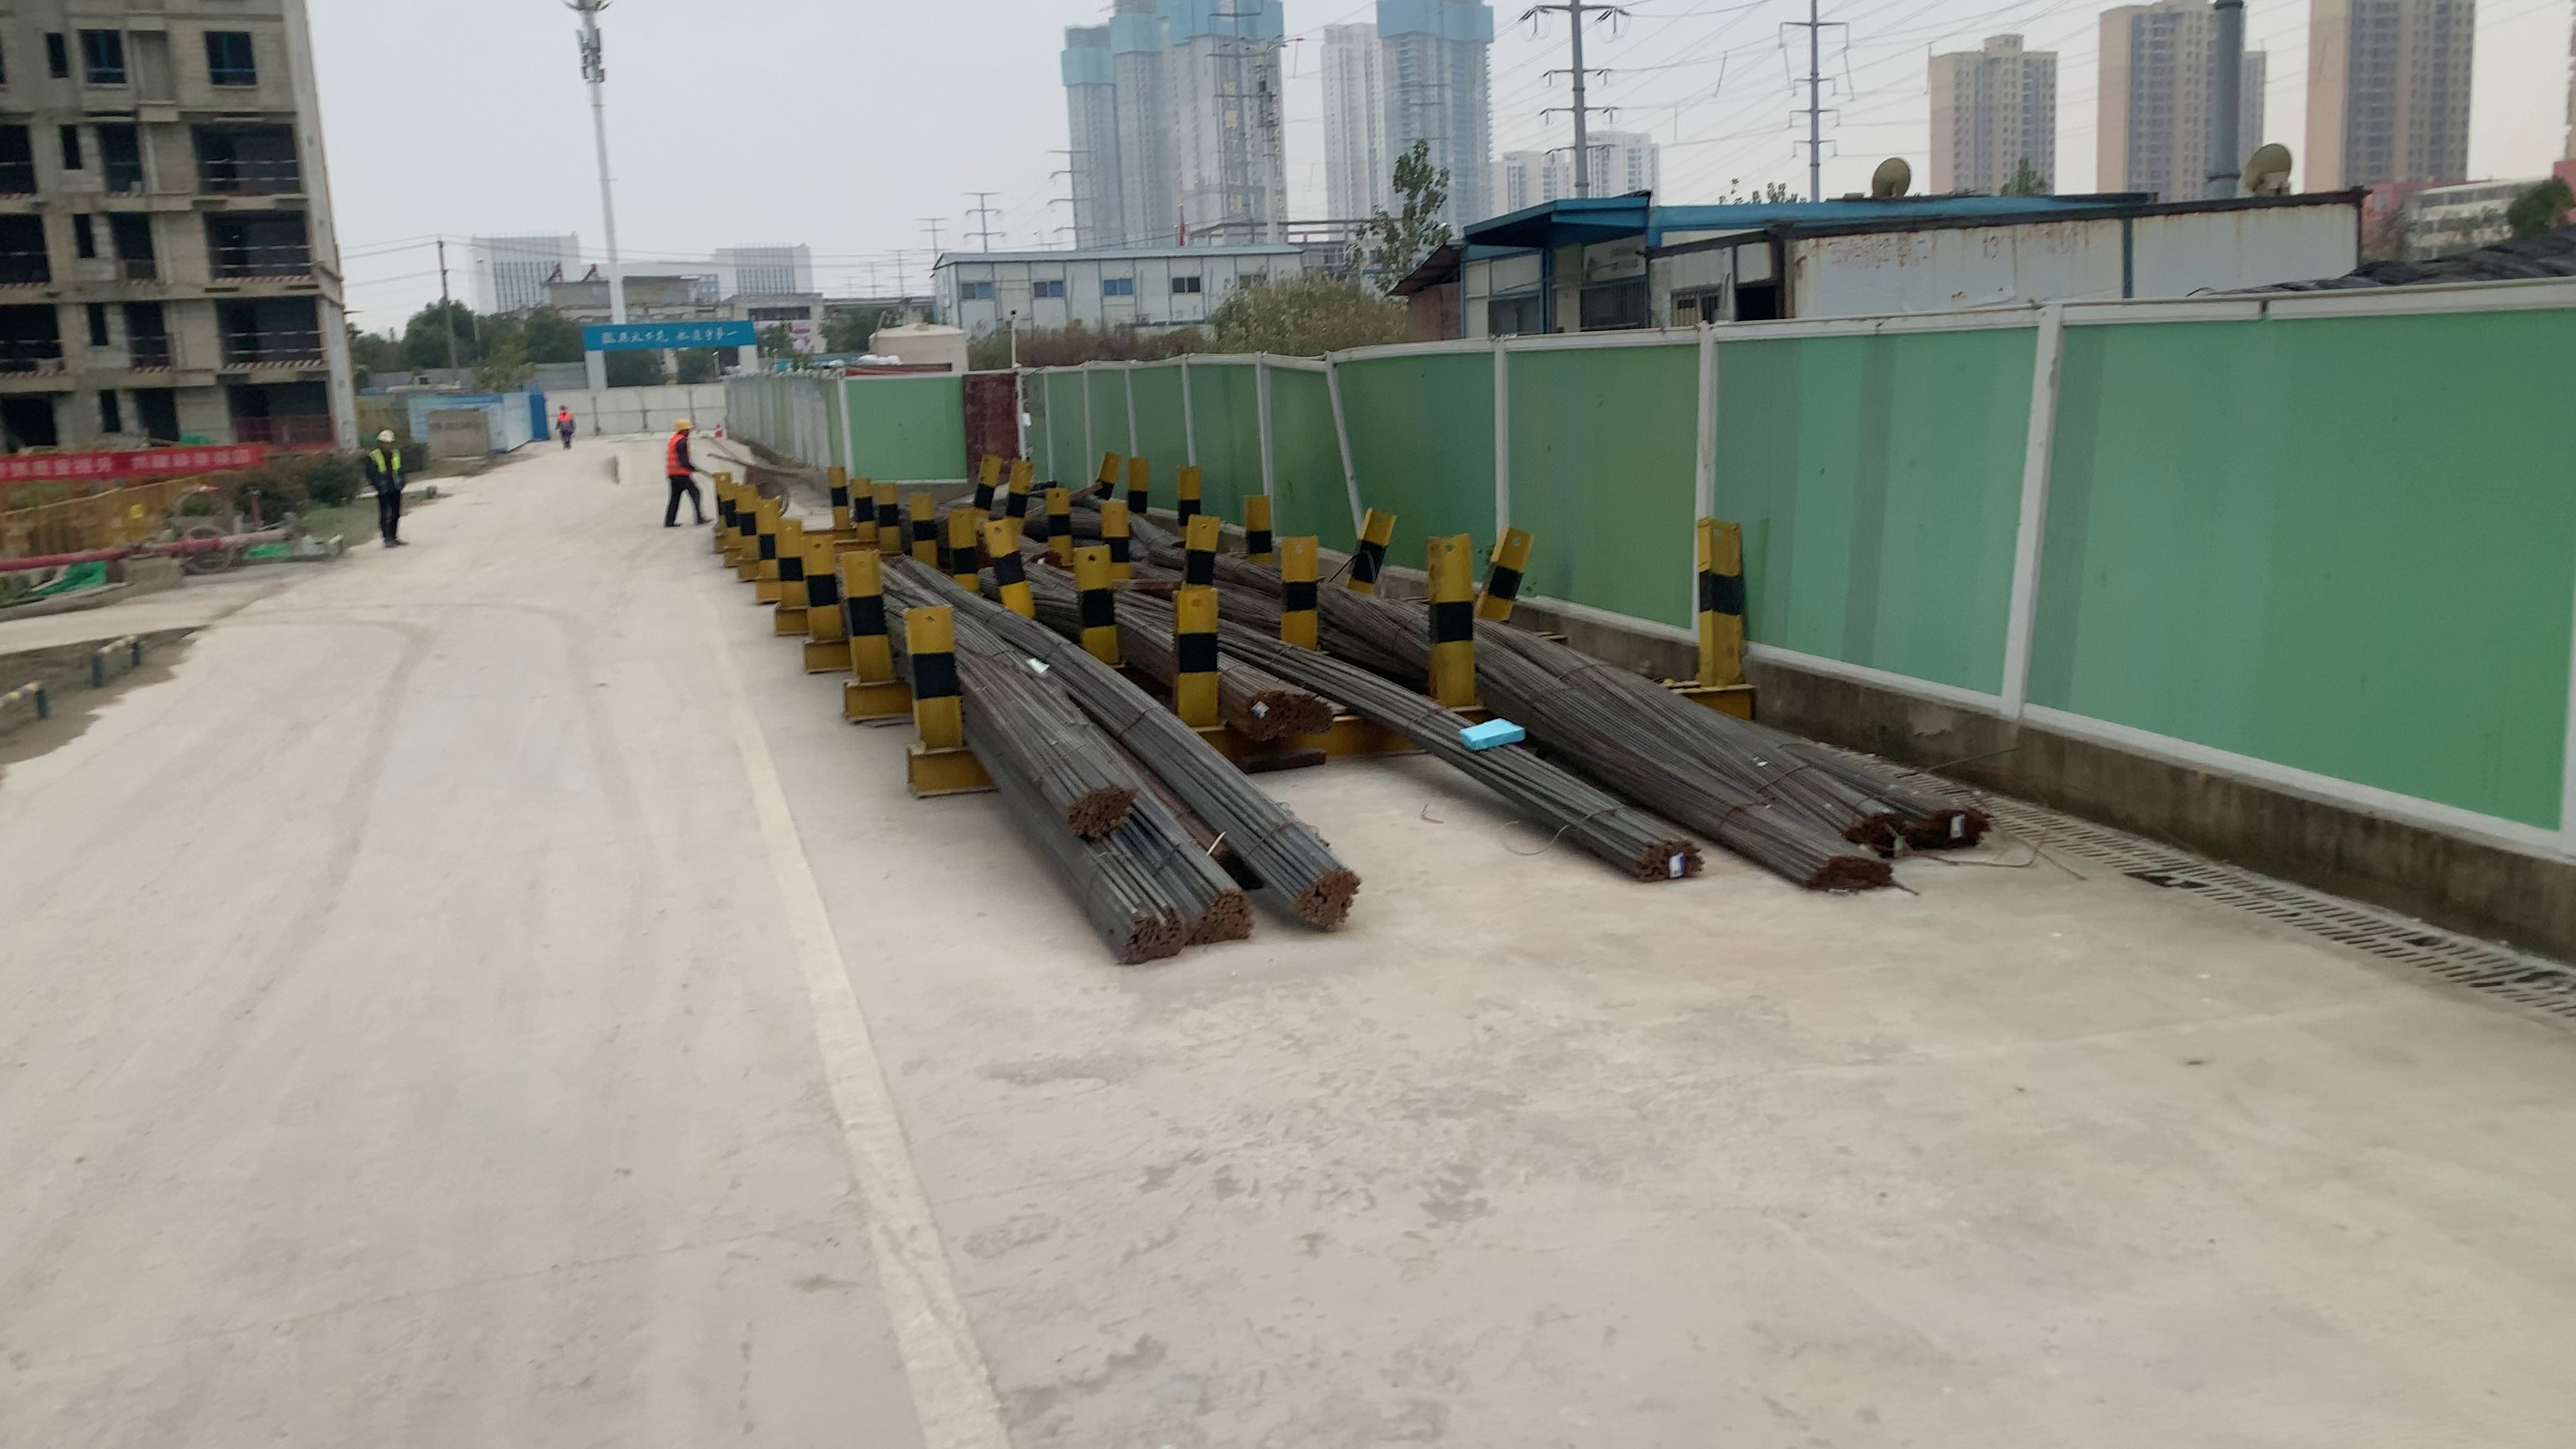rebar: (1292, 867, 1361, 932), (1074, 782, 1139, 846), (1803, 851, 1890, 899), (1629, 833, 1707, 885), (1115, 904, 1180, 964), (1923, 805, 1999, 851), (1194, 893, 1254, 950), (1242, 692, 1290, 741), (1854, 810, 1916, 847), (1293, 695, 1332, 731)
